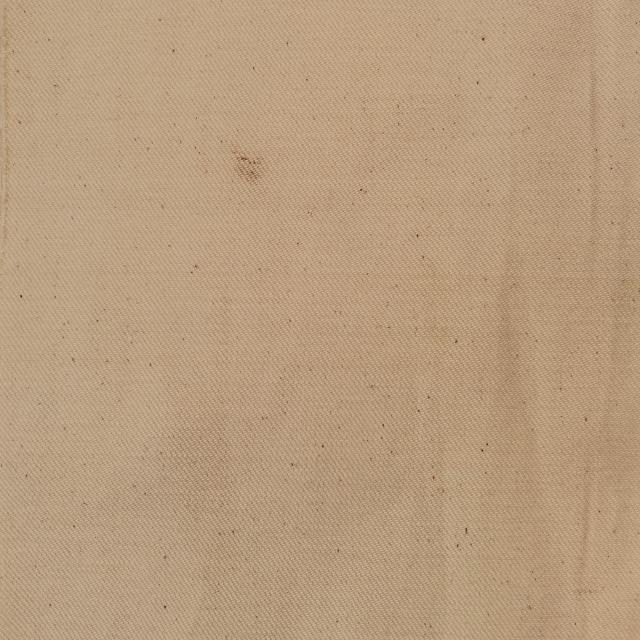taaaches: (222, 123, 273, 205)
